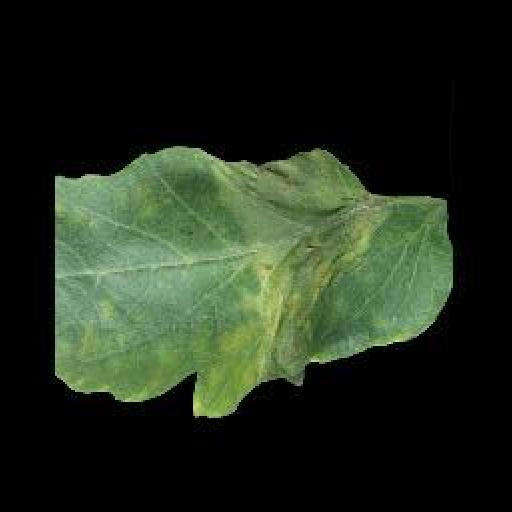disease_tomato: (58, 140, 454, 422)
